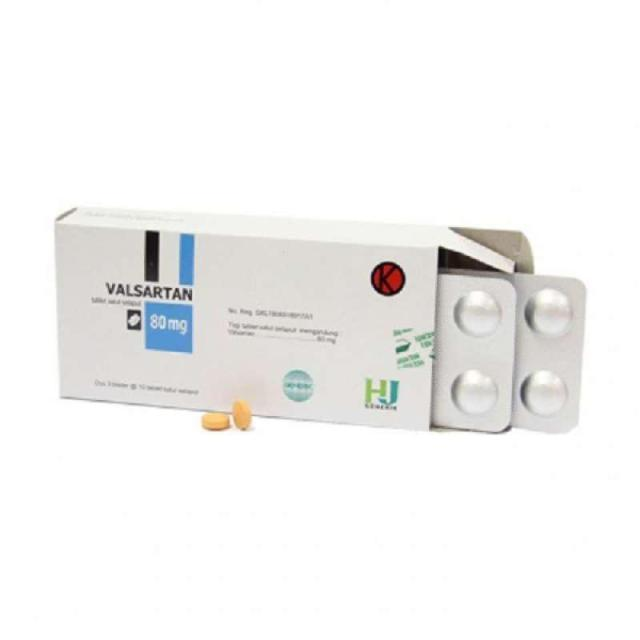drug-name: (106, 280, 193, 300)
